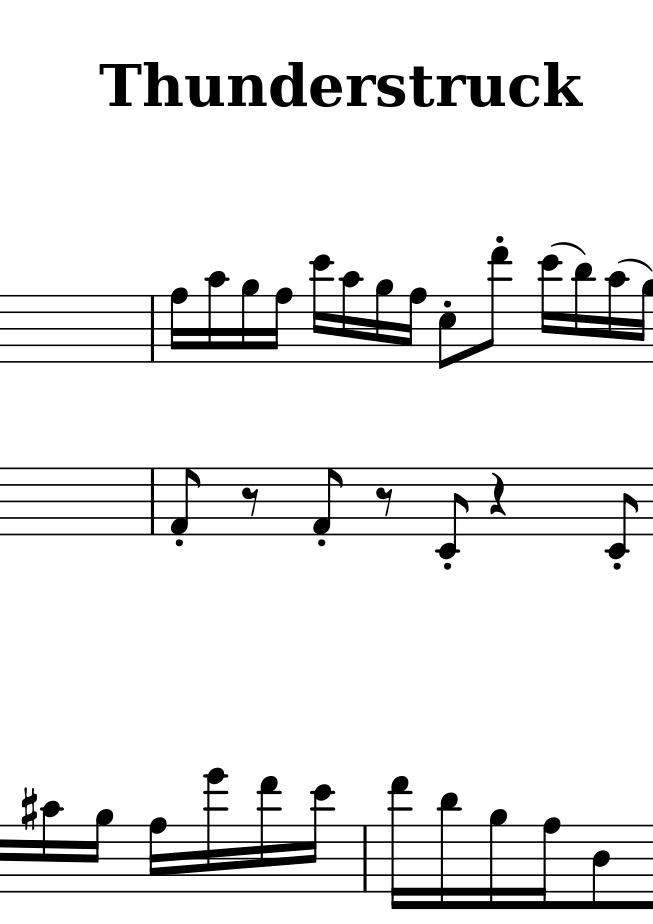16_10: (204, 270, 230, 364), (605, 270, 631, 364), (339, 270, 363, 364), (40, 800, 63, 894)
16_11: (436, 791, 460, 911), (571, 262, 595, 365)
16_12: (302, 783, 334, 895), (308, 253, 333, 365), (538, 254, 563, 364)
16_13: (387, 774, 412, 910), (256, 776, 281, 892)
16_14: (202, 767, 228, 894)
16_8: (529, 816, 561, 911), (266, 286, 293, 364), (400, 286, 427, 364), (145, 816, 169, 894), (167, 286, 190, 365)
16_9: (85, 807, 114, 894), (487, 807, 509, 910), (238, 277, 260, 365), (372, 277, 393, 365), (635, 279, 653, 363)
8_-2: (603, 465, 639, 560), (433, 467, 469, 560)
8_1: (310, 466, 345, 537), (168, 466, 202, 537)
8_13: (477, 244, 511, 364)
8_4: (590, 822, 613, 912)
8_5: (436, 296, 458, 372)
Rests4: (488, 471, 506, 516)
Rests8: (373, 485, 397, 518), (239, 485, 262, 518)
Sharp: (19, 785, 38, 833)
Single_barline: (357, 824, 373, 892), (145, 295, 161, 362), (145, 470, 160, 535)
Slur: (618, 257, 653, 272), (551, 241, 587, 255)
